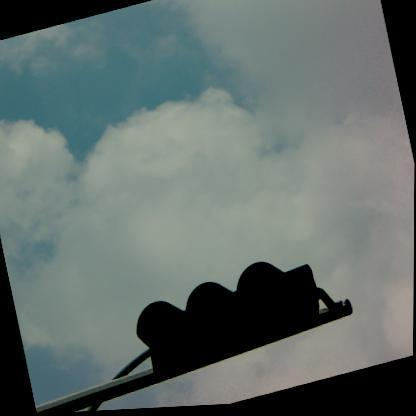green: (129, 250, 328, 382)
